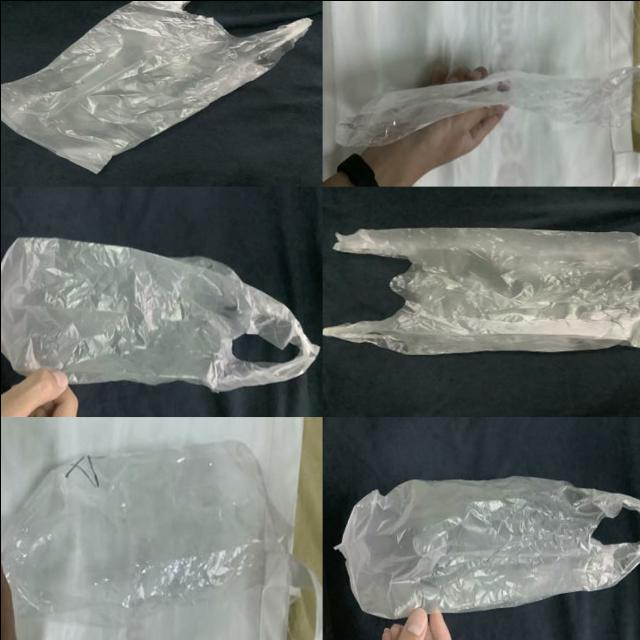plastik: (0, 0, 310, 173), (0, 441, 287, 625), (0, 237, 318, 390), (335, 475, 640, 618), (322, 227, 640, 353), (334, 64, 640, 146)
